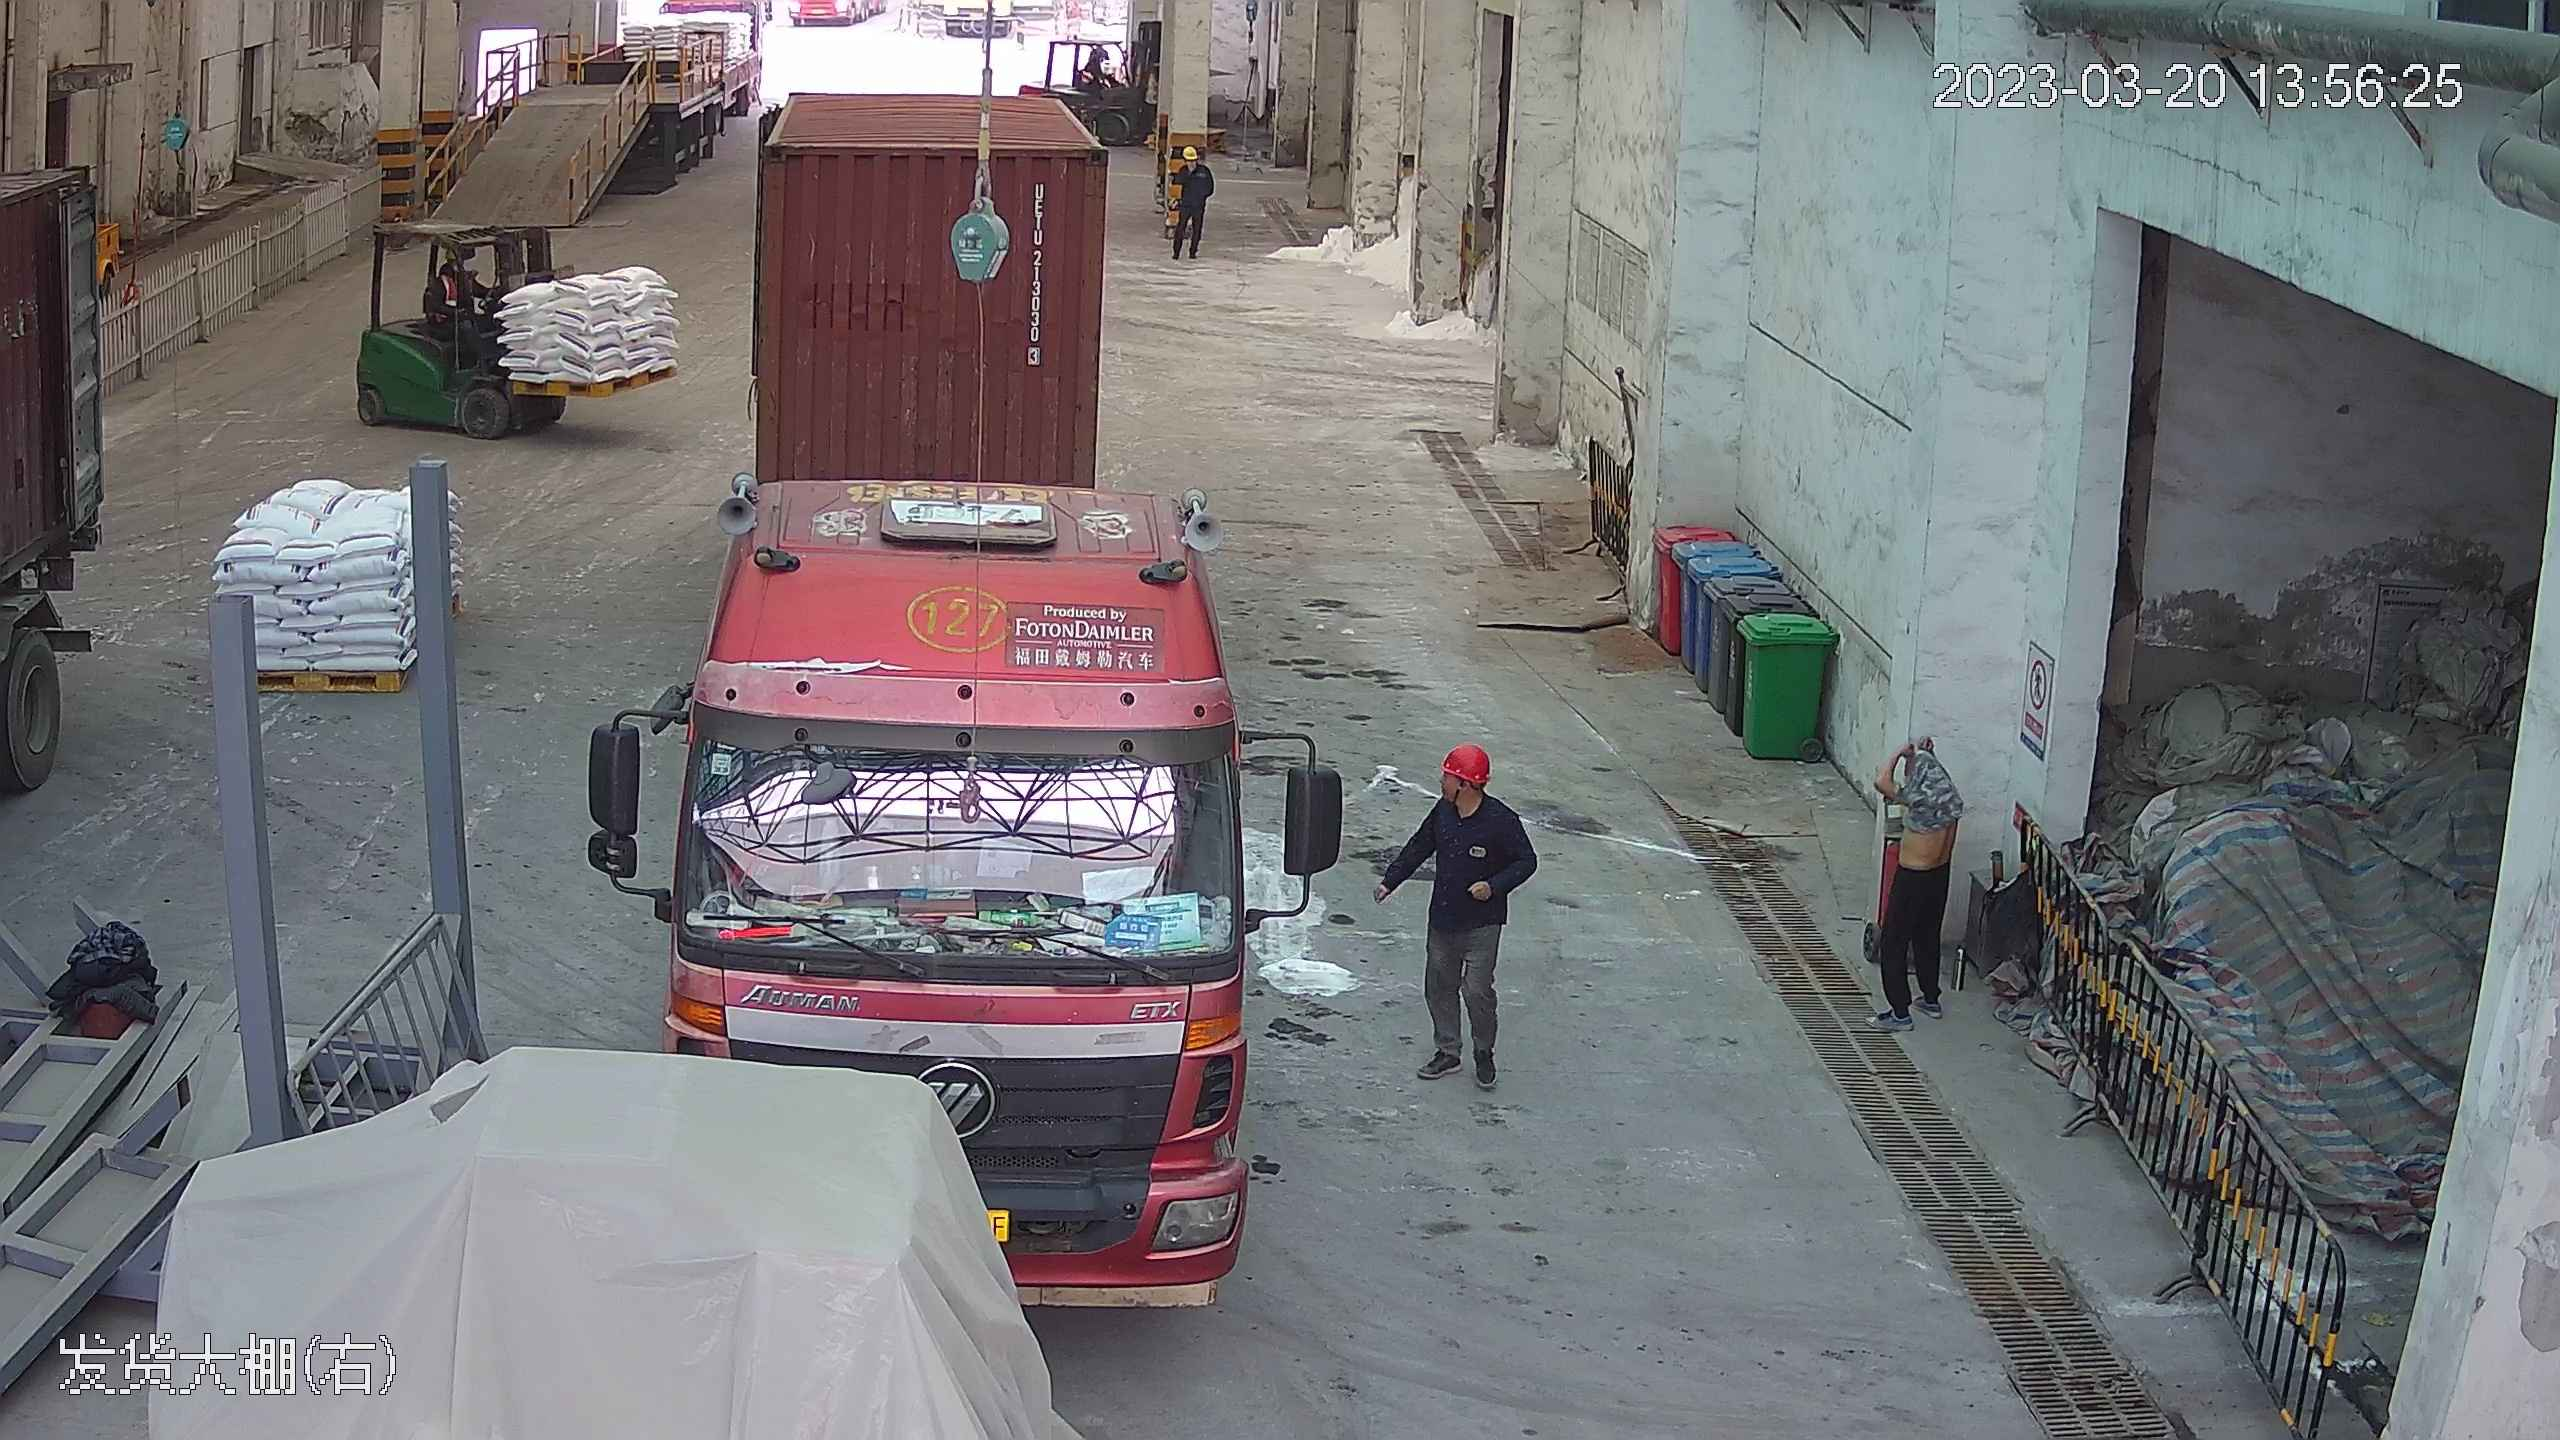head: (1411, 739, 1526, 852), (433, 249, 481, 294), (1171, 139, 1212, 182)
helmet: (1440, 735, 1494, 787), (1179, 139, 1205, 161)
people: (1375, 737, 1533, 1090), (1864, 719, 1961, 1019), (1160, 134, 1218, 264)
truck: (645, 26, 1256, 1298)
